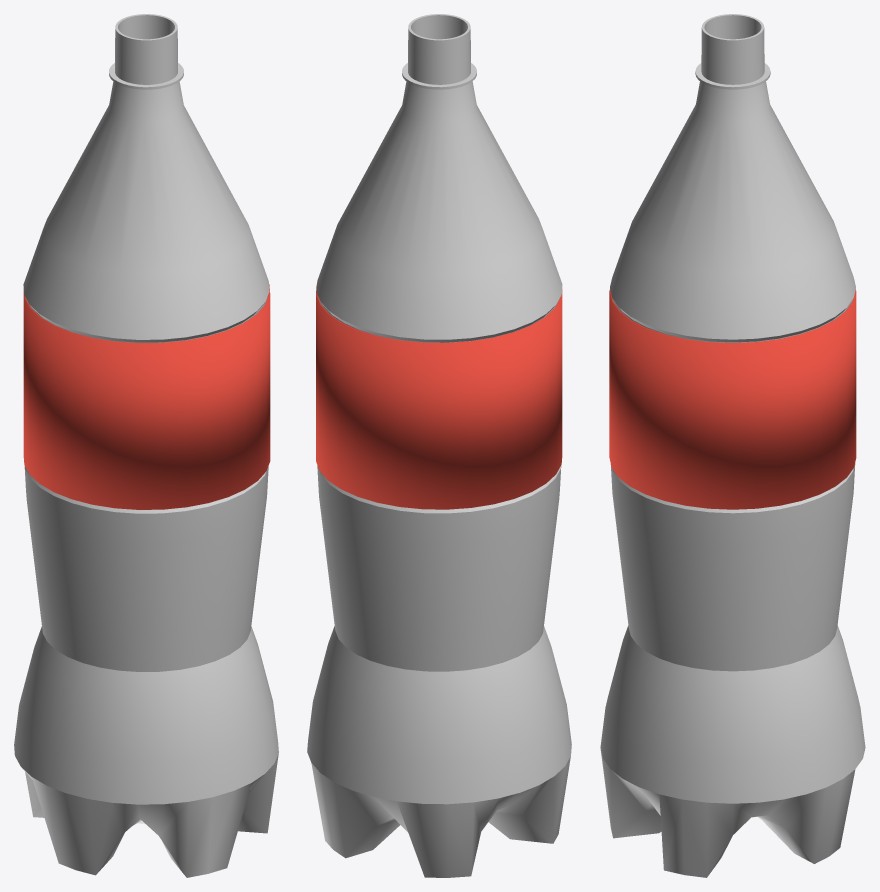
Rendered from coke2.fbx.
The picture shows the model from 3 angles, left to right: view 1: azimuth 30°, elevation 25°; view 2: azimuth 150°, elevation 25°; view 3: azimuth 270°, elevation 25°; orthographic projection.
Parts seen in each view (by area): view 1: naka, 円柱; view 2: naka, 円柱; view 3: naka, 円柱.
Boxes of the visible parts, box(x1,y1,x2,y2) form: naka: box(14, 14, 278, 877); 円柱: box(23, 284, 270, 509); naka: box(307, 14, 571, 877); 円柱: box(316, 284, 562, 509); naka: box(600, 14, 865, 877); 円柱: box(609, 289, 856, 509).
Bounding box in the file's own units: 8.45 × 28.16 × 8.45.
